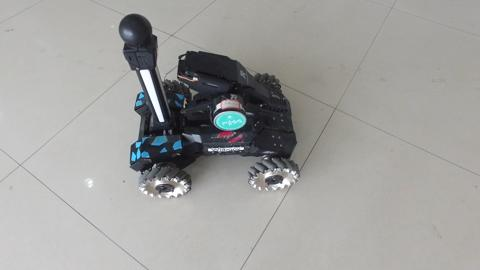chariot: (92, 25, 301, 207)
